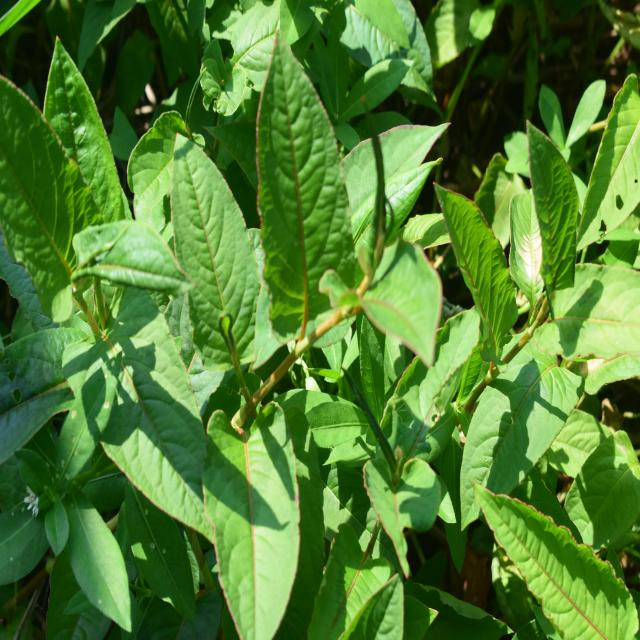Chinese_knotweed: (0, 61, 208, 526), (154, 60, 430, 388)
